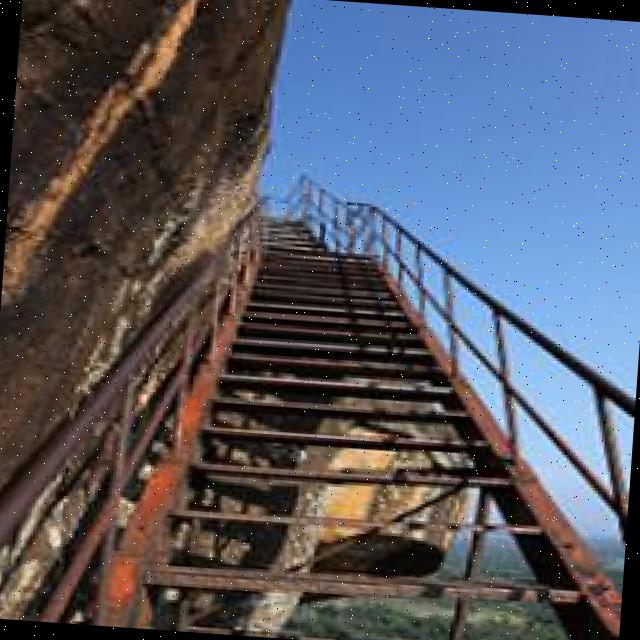stairs: (65, 132, 640, 636)
